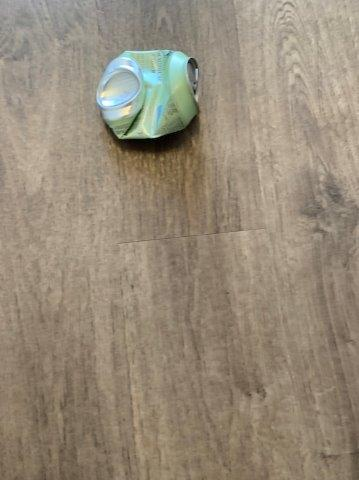kaleng: (98, 51, 198, 138)
